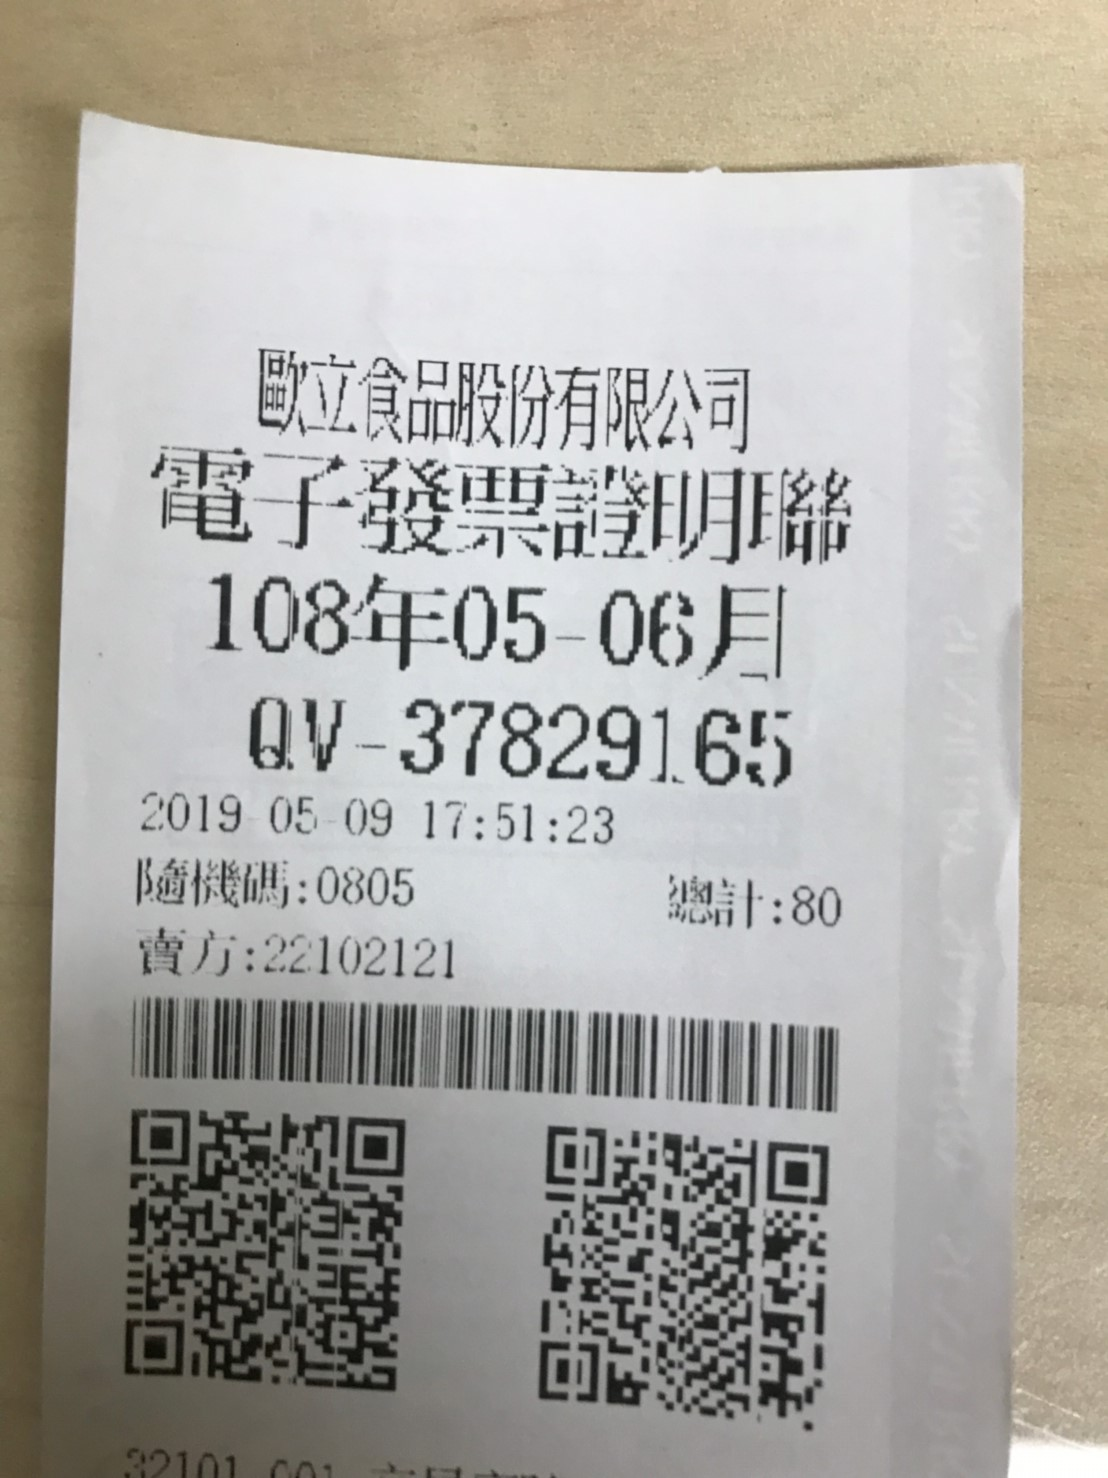Date_New: (203, 568, 789, 684)
Number_New: (393, 696, 807, 794)
